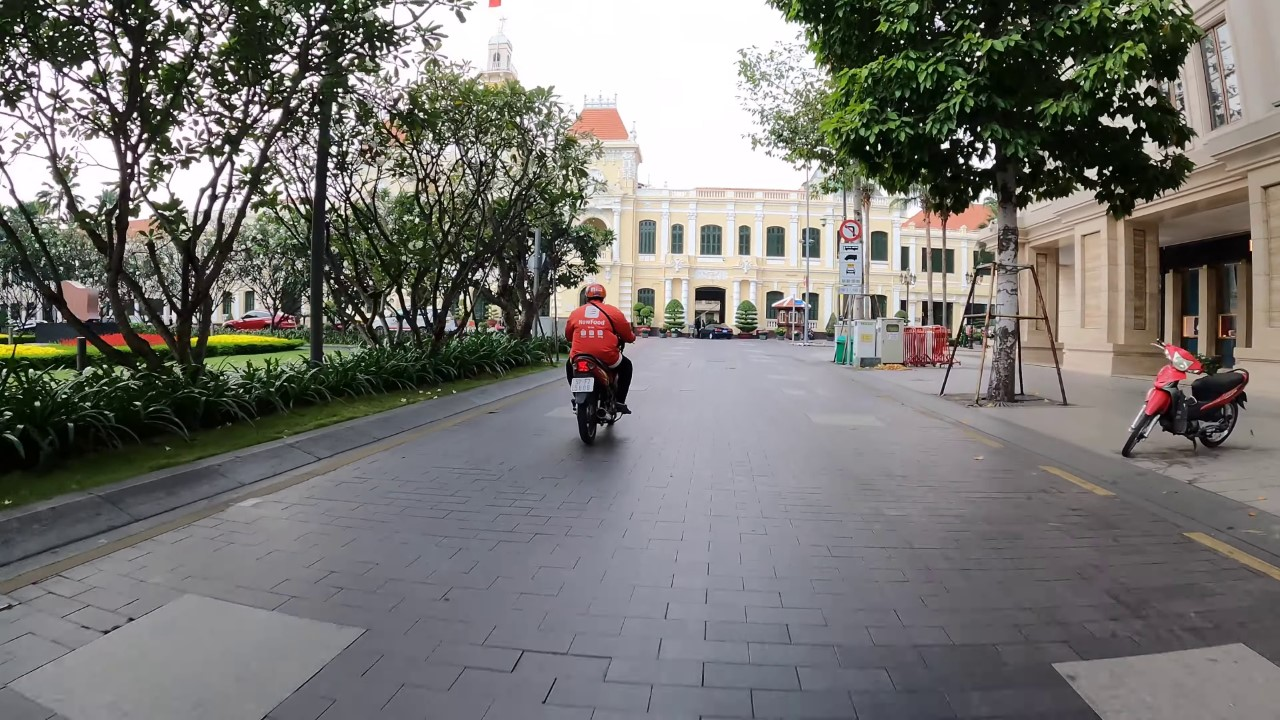cam_re_trai: (837, 217, 864, 243)
